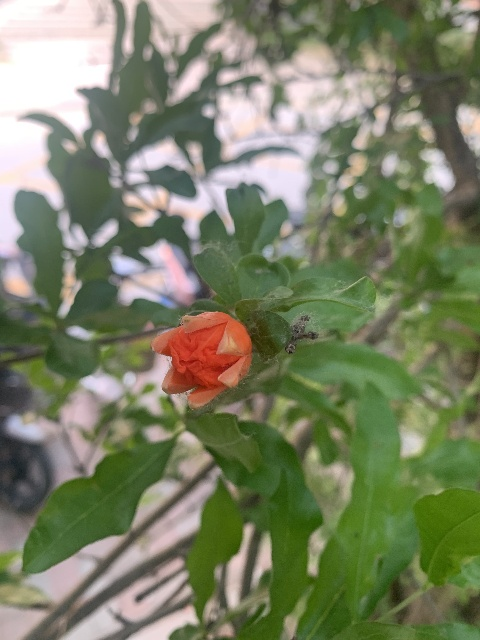flower: (149, 310, 252, 408)
